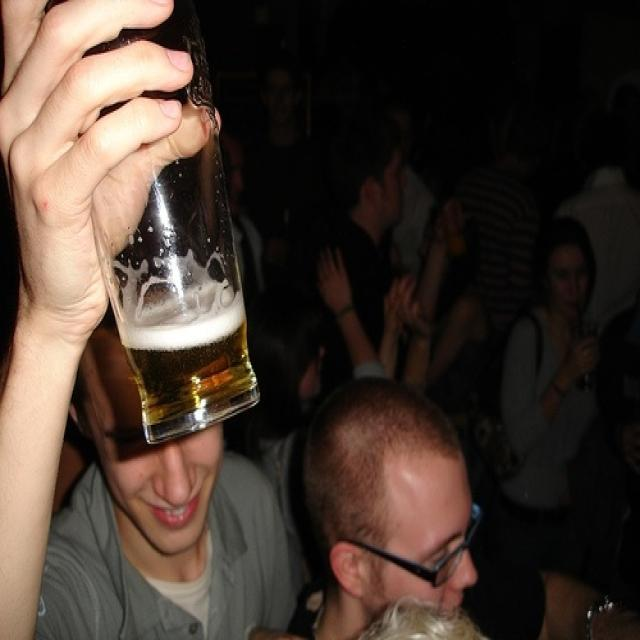Glass: (96, 167, 266, 456)
